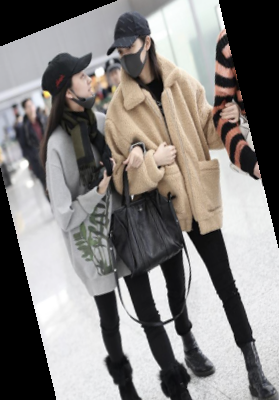mask_weared_incorrect: (38, 47, 98, 113)
